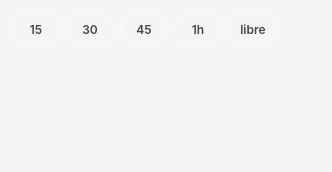
VidaDurationPills · freeInput="hoursAndMinutes" (FEAT-008, tajada 1) › «libre» abre dos campos con su nombre propio, no uno compartido (criterios 107 y 114)
Step 1. Click the button "libre" → [253, 29], box [228,12,278,47]
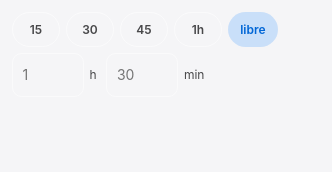
Now the field named "horas" is shown, box [12,53,84,97]
Now the field named "minutos" is shown, box [106,53,178,97]
Now the text "h" is shown, box [90,66,97,84]
